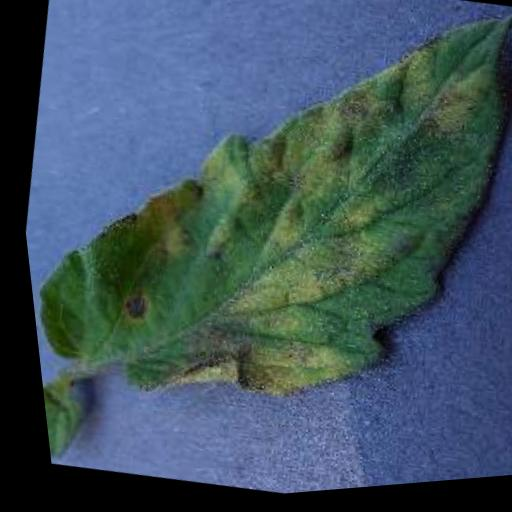Leaf Mold: (0, 0, 512, 467)
